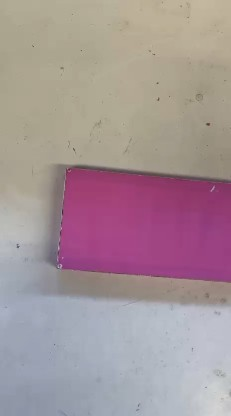pink: (47, 170, 222, 283)
